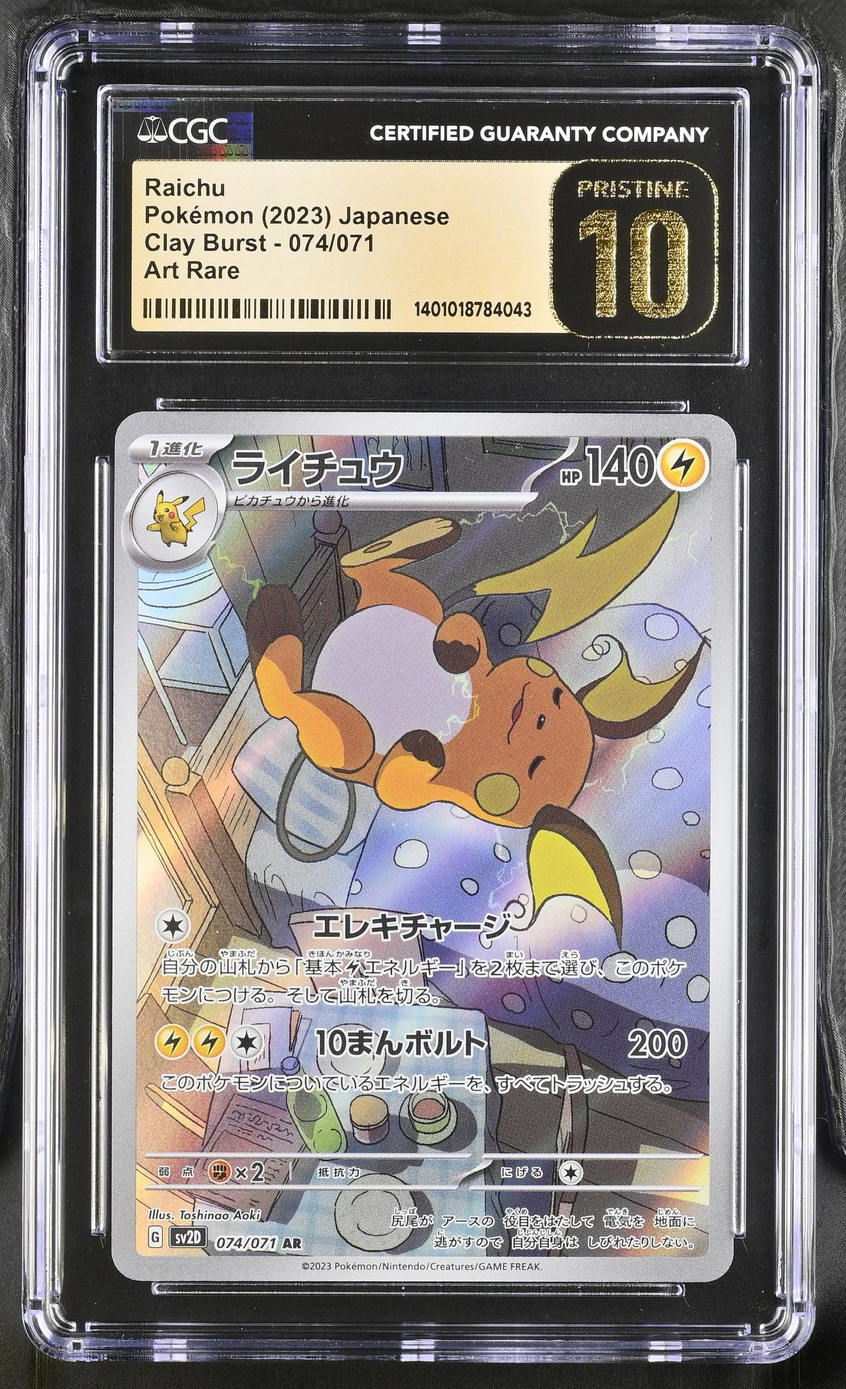card-2UtV: (111, 411, 737, 1282)
